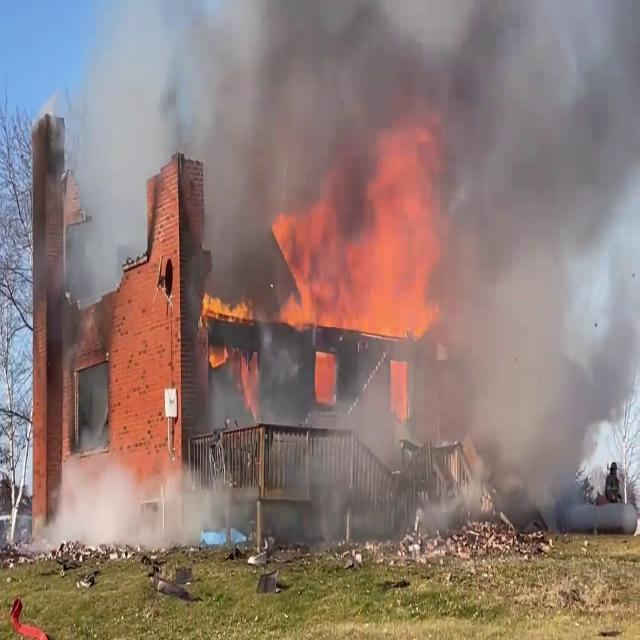Fire: (271, 144, 449, 332), (198, 286, 258, 404), (198, 286, 255, 327)
Smoke: (188, 1, 638, 280), (427, 0, 640, 525), (36, 436, 257, 560)
